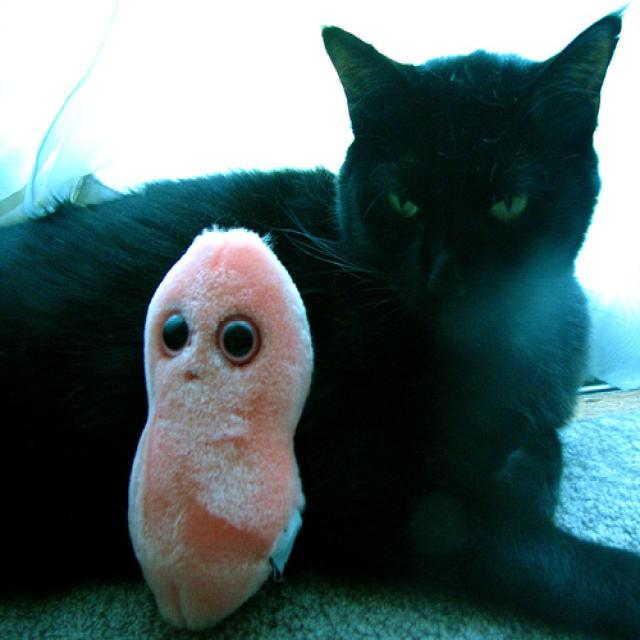cat: (1, 13, 640, 640)
